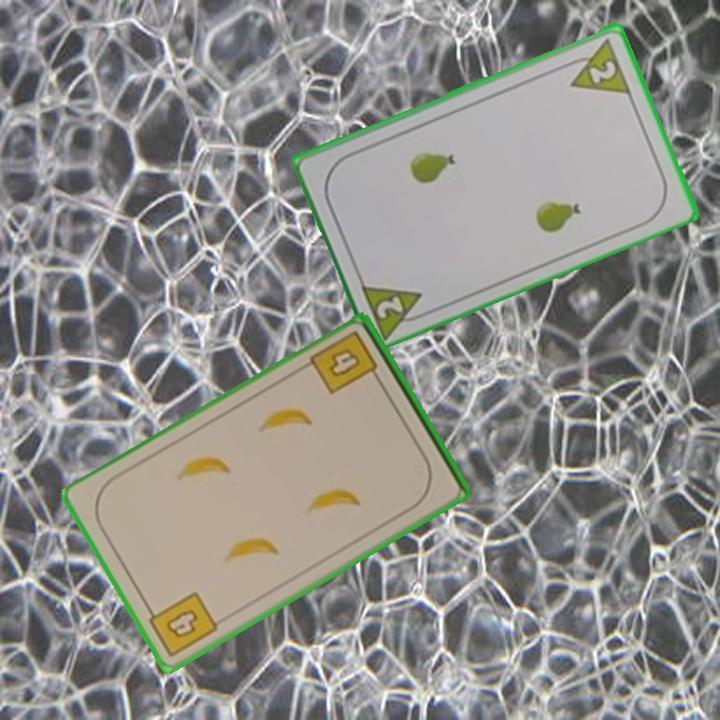2p: (356, 277, 433, 339), (560, 34, 634, 96)
4b: (142, 588, 221, 661), (306, 327, 384, 398)
